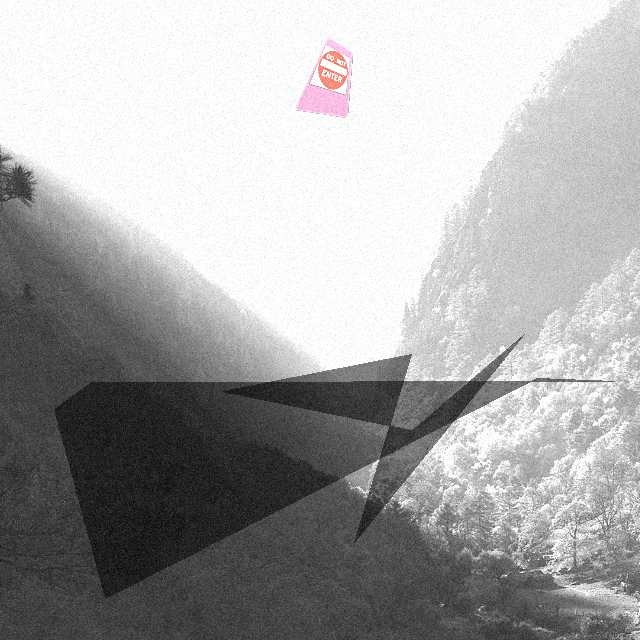DO_NOT_ENTER: (309, 44, 353, 95)
